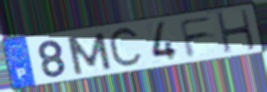4: (150, 20, 181, 64)
8: (37, 39, 68, 79)
C: (106, 24, 145, 72)
F: (177, 14, 216, 60)
H: (214, 8, 258, 56)
M: (64, 31, 114, 77)
